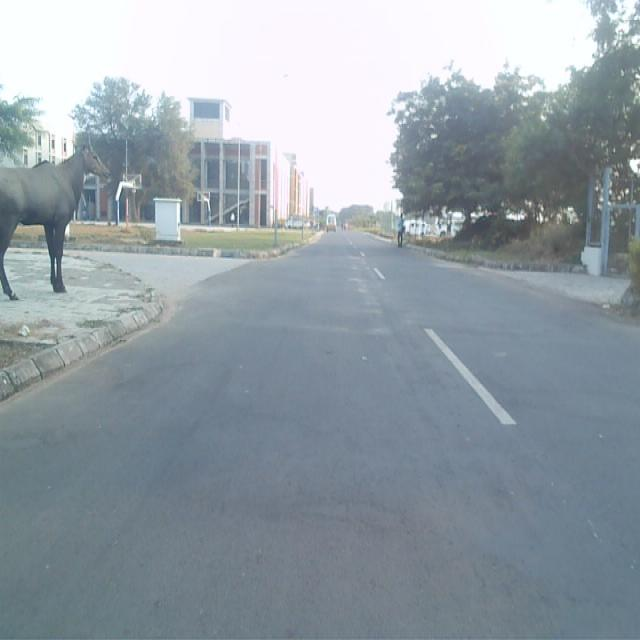lane: (0, 236, 640, 640)
